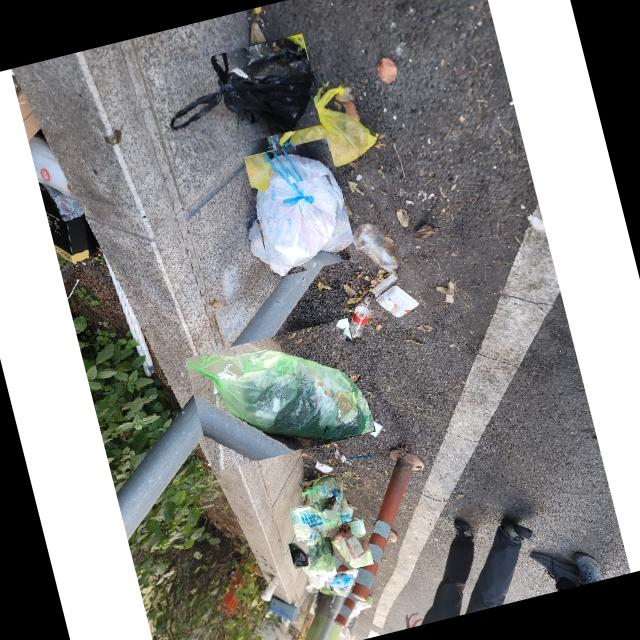general_trashbag: (190, 346, 372, 439), (304, 475, 343, 524), (289, 505, 339, 541), (331, 522, 370, 566), (304, 535, 336, 571)
other_trashbag: (170, 49, 313, 129), (257, 149, 339, 274), (279, 85, 377, 176), (249, 218, 301, 267), (289, 542, 308, 565), (329, 572, 354, 586)
